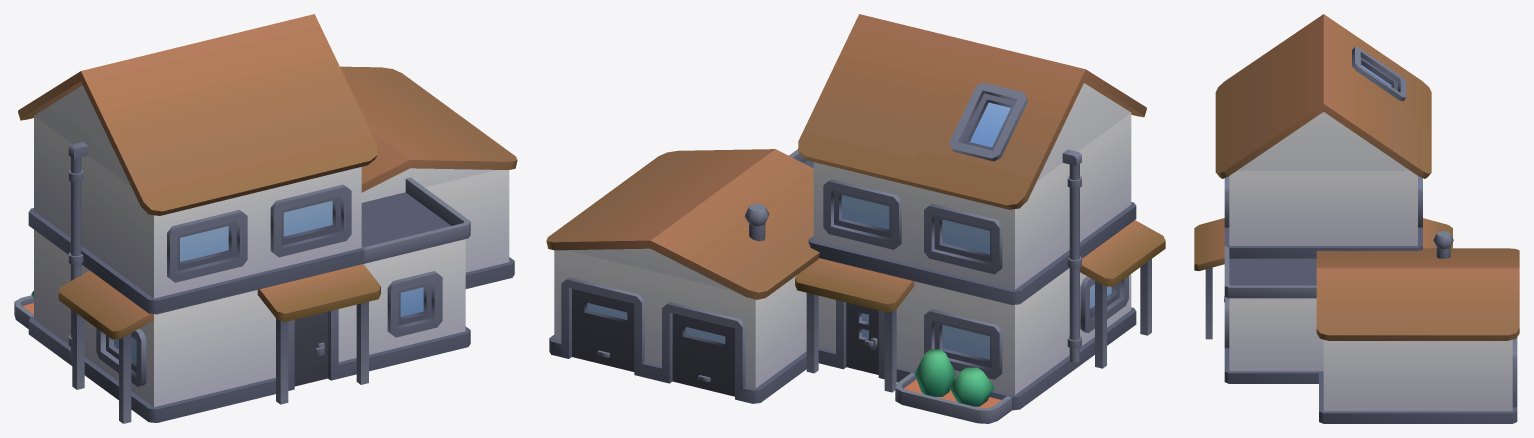
The model's file is building-type-n.glb.
3 renders of one model, left to right at view 1: azimuth 30°, elevation 25°; view 2: azimuth 150°, elevation 25°; view 3: azimuth 270°, elevation 25°, orthographic. The views are drawn at different scales.
Visible parts, largest first — view 1: building-type-n; view 2: building-type-n; view 3: building-type-n.
Boxes of the visible parts, x1=… form: building-type-n: x1=14, y1=14, x2=517, y2=423; building-type-n: x1=546, y1=14, x2=1165, y2=423; building-type-n: x1=1194, y1=14, x2=1519, y2=423.
Size of the model in its own units: 1.78 by 1.14 by 1.38.
1 material, 1 textured.
